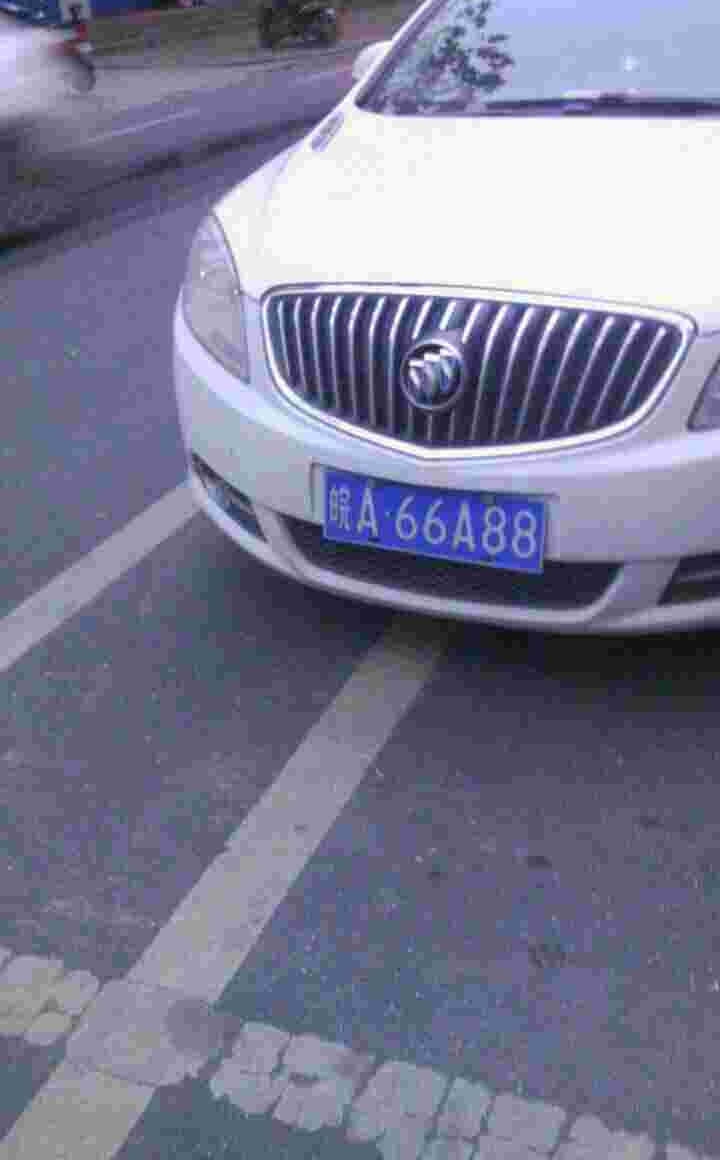license_plate: (319, 479, 553, 581)
